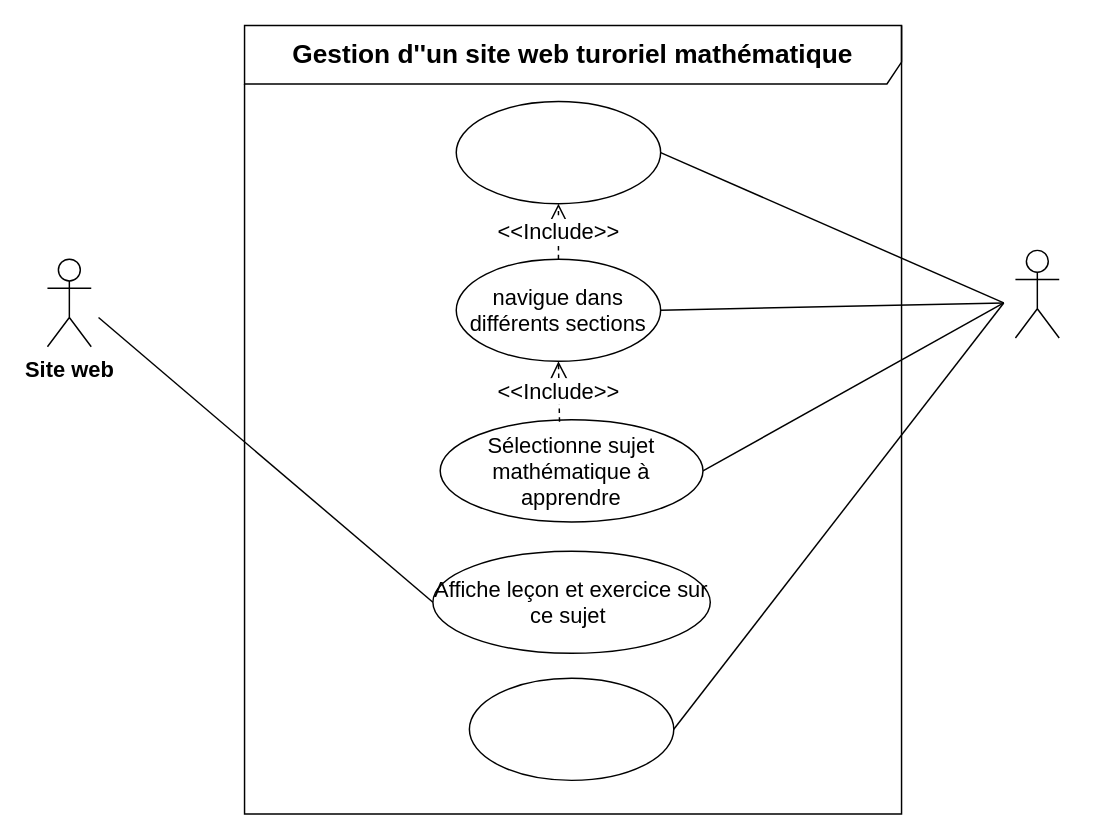
The diagram is 1113 pixels wide and 840 high, and some of its shapes have lost their labels. Here are the shapes that lost their labels. From the top down, the centre of each, then its label:
At (x=558, y=152): "Ouvre le site web".
At (x=1036, y=293): "Utilisateur".
At (x=571, y=728): "quitter le site web".
